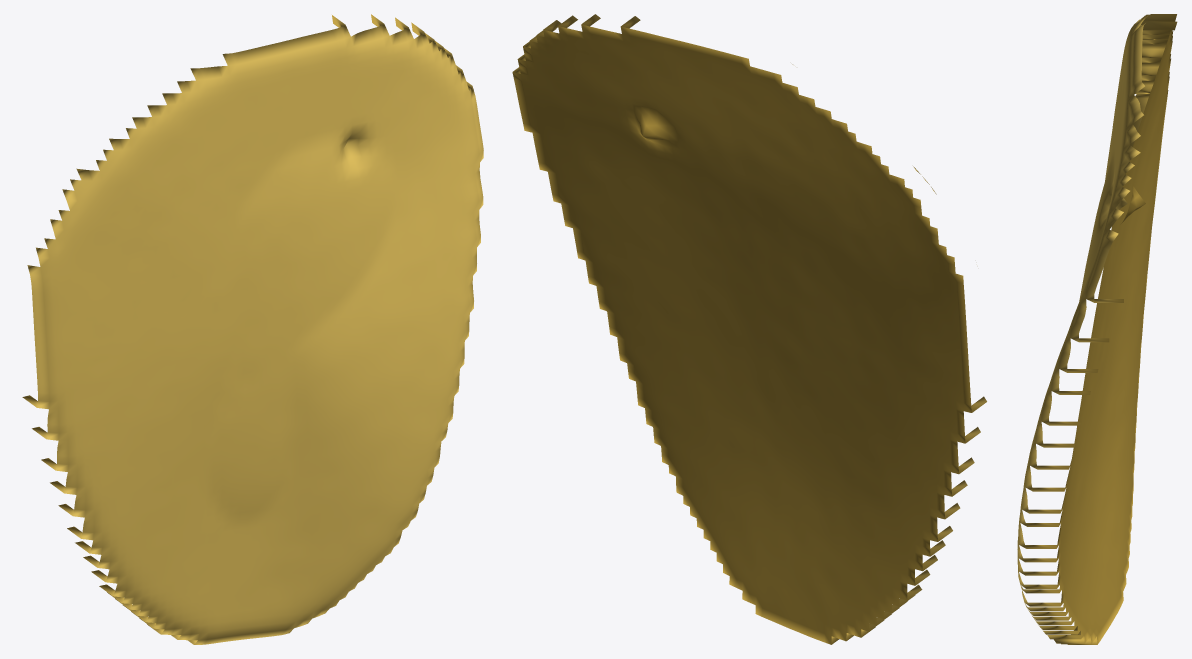
The model's file is PAIR-MET-PAD_LEFT_addon.glb.
3 views of the same model, side by side, from view 1: azimuth 30°, elevation 25°; view 2: azimuth 150°, elevation 25°; view 3: azimuth 270°, elevation 25° (orthographic). The views are drawn at different scales.
Visible parts, largest first — view 1: geometry_0; view 2: geometry_0; view 3: geometry_0.
Boxes of the visible parts, x1=… form: geometry_0: x1=22, y1=14, x2=483, y2=644; geometry_0: x1=512, y1=14, x2=986, y2=644; geometry_0: x1=1017, y1=14, x2=1177, y2=644.
Size of the model in its own units: 57 by 70 by 16.72.
